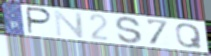2: (88, 13, 111, 42)
7: (146, 18, 171, 46)
N: (53, 10, 87, 39)
P: (27, 6, 55, 36)
Q: (174, 22, 204, 50)
S: (114, 15, 144, 45)
